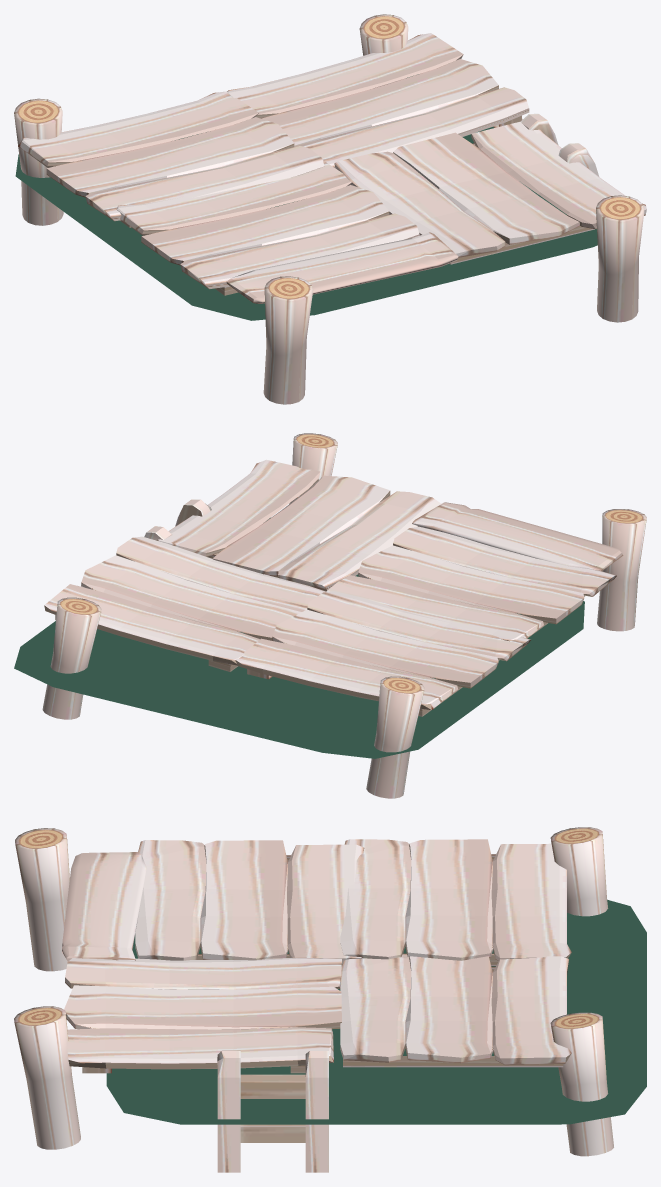
File: Pier3.fbx
The picture shows the model from 3 angles, top to bottom: view 1: azimuth 30°, elevation 25°; view 2: azimuth 150°, elevation 25°; view 3: azimuth 270°, elevation 25°; orthographic projection. The views are drawn at different scales.
Visible parts, largest first — view 1: Object009 (18), Object009 (13), Object009 (14), Object009 (20), PierBeam (×4), ShadowSquareWater (6), Object011 (7), Object013 (1); view 2: ShadowSquareWater (6), Object009 (18), Object009 (13), Object009 (14), Object009 (20), PierBeam (×4), Object011 (7), Object013 (1); view 3: ShadowSquareWater (6), Object009 (18), Object009 (14), Object009 (20), Object009 (13), PierBeam (×4), Object013 (1), Object011 (7).
Boxes of the visible parts, left/top/right/bottom form: Object009 (18): left=334, top=122, right=646, bottom=264; Object009 (13): left=227, top=33, right=529, bottom=168; Object009 (14): left=18, top=91, right=324, bottom=227; Object009 (20): left=116, top=160, right=419, bottom=295; PierBeam (×4): left=14, top=14, right=644, bottom=404; ShadowSquareWater (6): left=15, top=74, right=597, bottom=320; Object011 (7): left=226, top=232, right=458, bottom=303; Object013 (1): left=520, top=113, right=599, bottom=176; ShadowSquareWater (6): left=14, top=517, right=584, bottom=758; Object009 (18): left=156, top=459, right=441, bottom=591; Object009 (13): left=44, top=536, right=325, bottom=671; Object009 (14): left=235, top=591, right=530, bottom=716; Object009 (20): left=326, top=526, right=616, bottom=641; PierBeam (×4): left=42, top=433, right=646, bottom=798; Object011 (7): left=412, top=502, right=623, bottom=571; Object013 (1): left=144, top=499, right=211, bottom=540; ShadowSquareWater (6): left=106, top=900, right=646, bottom=1124; Object009 (18): left=64, top=957, right=341, bottom=1073; Object009 (14): left=340, top=839, right=571, bottom=965; Object009 (20): left=135, top=840, right=364, bottom=966; Object009 (13): left=340, top=954, right=571, bottom=1067; PierBeam (×4): left=14, top=827, right=613, bottom=1156; Object013 (1): left=217, top=1050, right=328, bottom=1172; Object011 (7): left=62, top=852, right=146, bottom=961.
Bounding box in the file's own units: 4.36 × 1.09 × 4.87.
